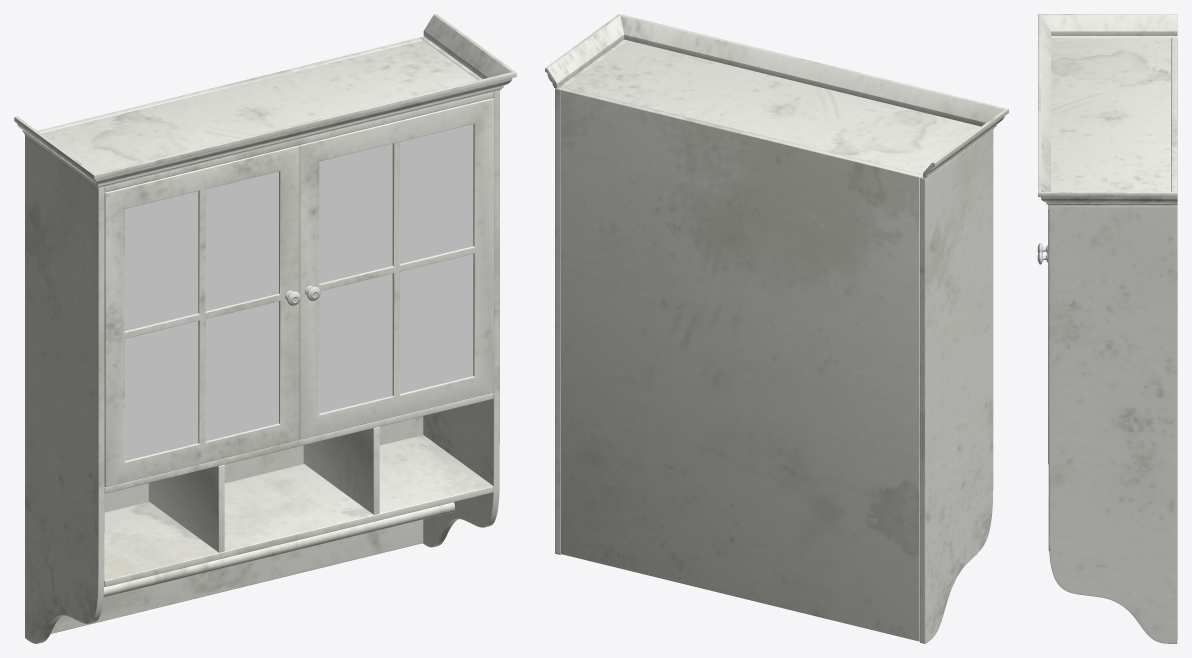
File: WallCabinet.glb
3 renders of one model, left to right at view 1: azimuth 30°, elevation 25°; view 2: azimuth 150°, elevation 25°; view 3: azimuth 270°, elevation 25°, orthographic. The views are drawn at different scales.
Parts seen in each view (by area): view 1: Knob; view 2: Knob; view 3: Knob.
Boxes of the visible parts, left/top/right/bottom form: Knob: left=14, top=14, right=516, bottom=643; Knob: left=545, top=14, right=1008, bottom=643; Knob: left=1037, top=14, right=1177, bottom=643.
Bounding box in the file's own units: 0.5546 × 0.6571 × 0.1831.
Materials: 3 (2 with a texture image).
